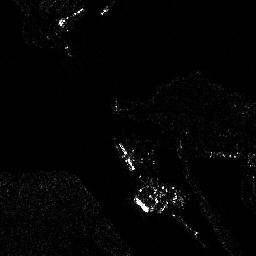ship: (57, 7, 84, 28), (116, 143, 135, 170), (132, 196, 150, 213)
